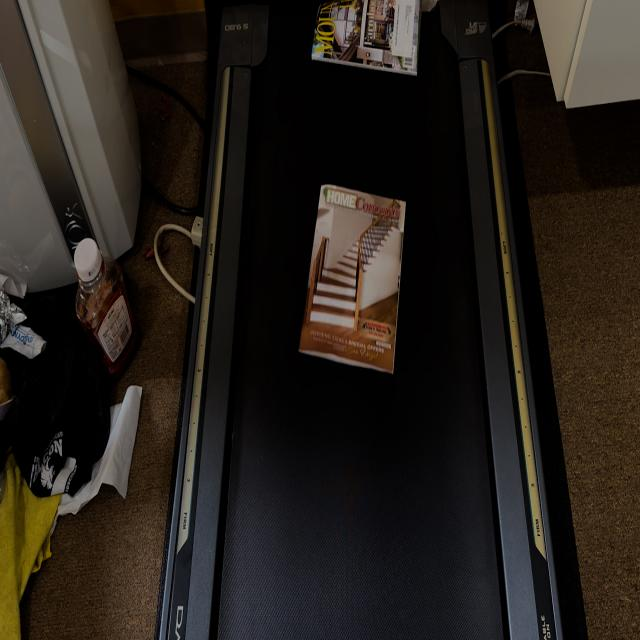Recycle: (302, 182, 408, 388), (310, 2, 421, 79)
